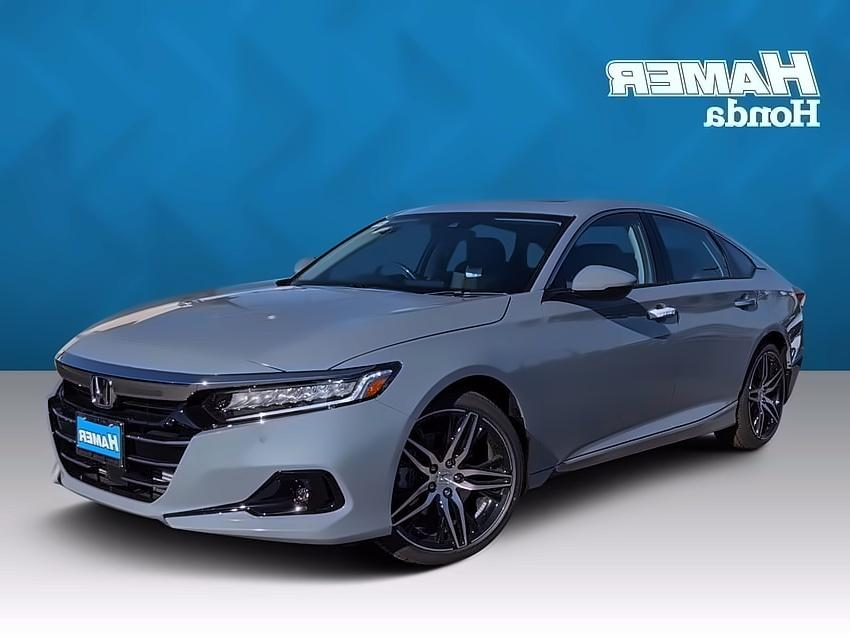Car hood: (52, 274, 514, 384)
Fender - -F-L-: (374, 288, 537, 503)
Fender - -R-L-: (730, 273, 798, 440)
Front bumper: (39, 371, 422, 549), (782, 341, 816, 414)
Headlight - -L-: (172, 354, 414, 440)
Passenger-s door - -F-L-: (527, 200, 682, 468)
Passenger-s door - -R-L-: (659, 201, 770, 434)
Rear light - -L-: (784, 276, 818, 316)
Side bumper - -L-: (520, 397, 746, 497)
Side mirror - -L-: (563, 253, 639, 319)
Side mirror - -R-: (283, 250, 329, 293)
